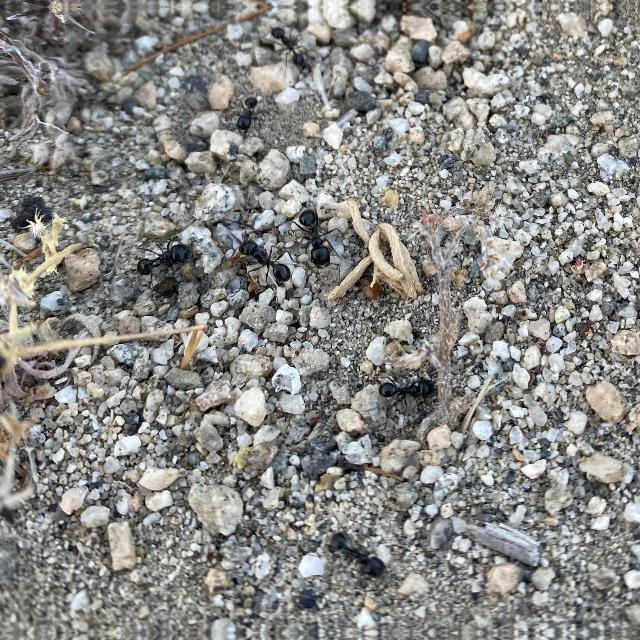Messor: (228, 234, 314, 306), (324, 514, 388, 586), (367, 359, 448, 413), (292, 205, 336, 263), (136, 234, 188, 282), (225, 86, 272, 126), (270, 24, 304, 66)
